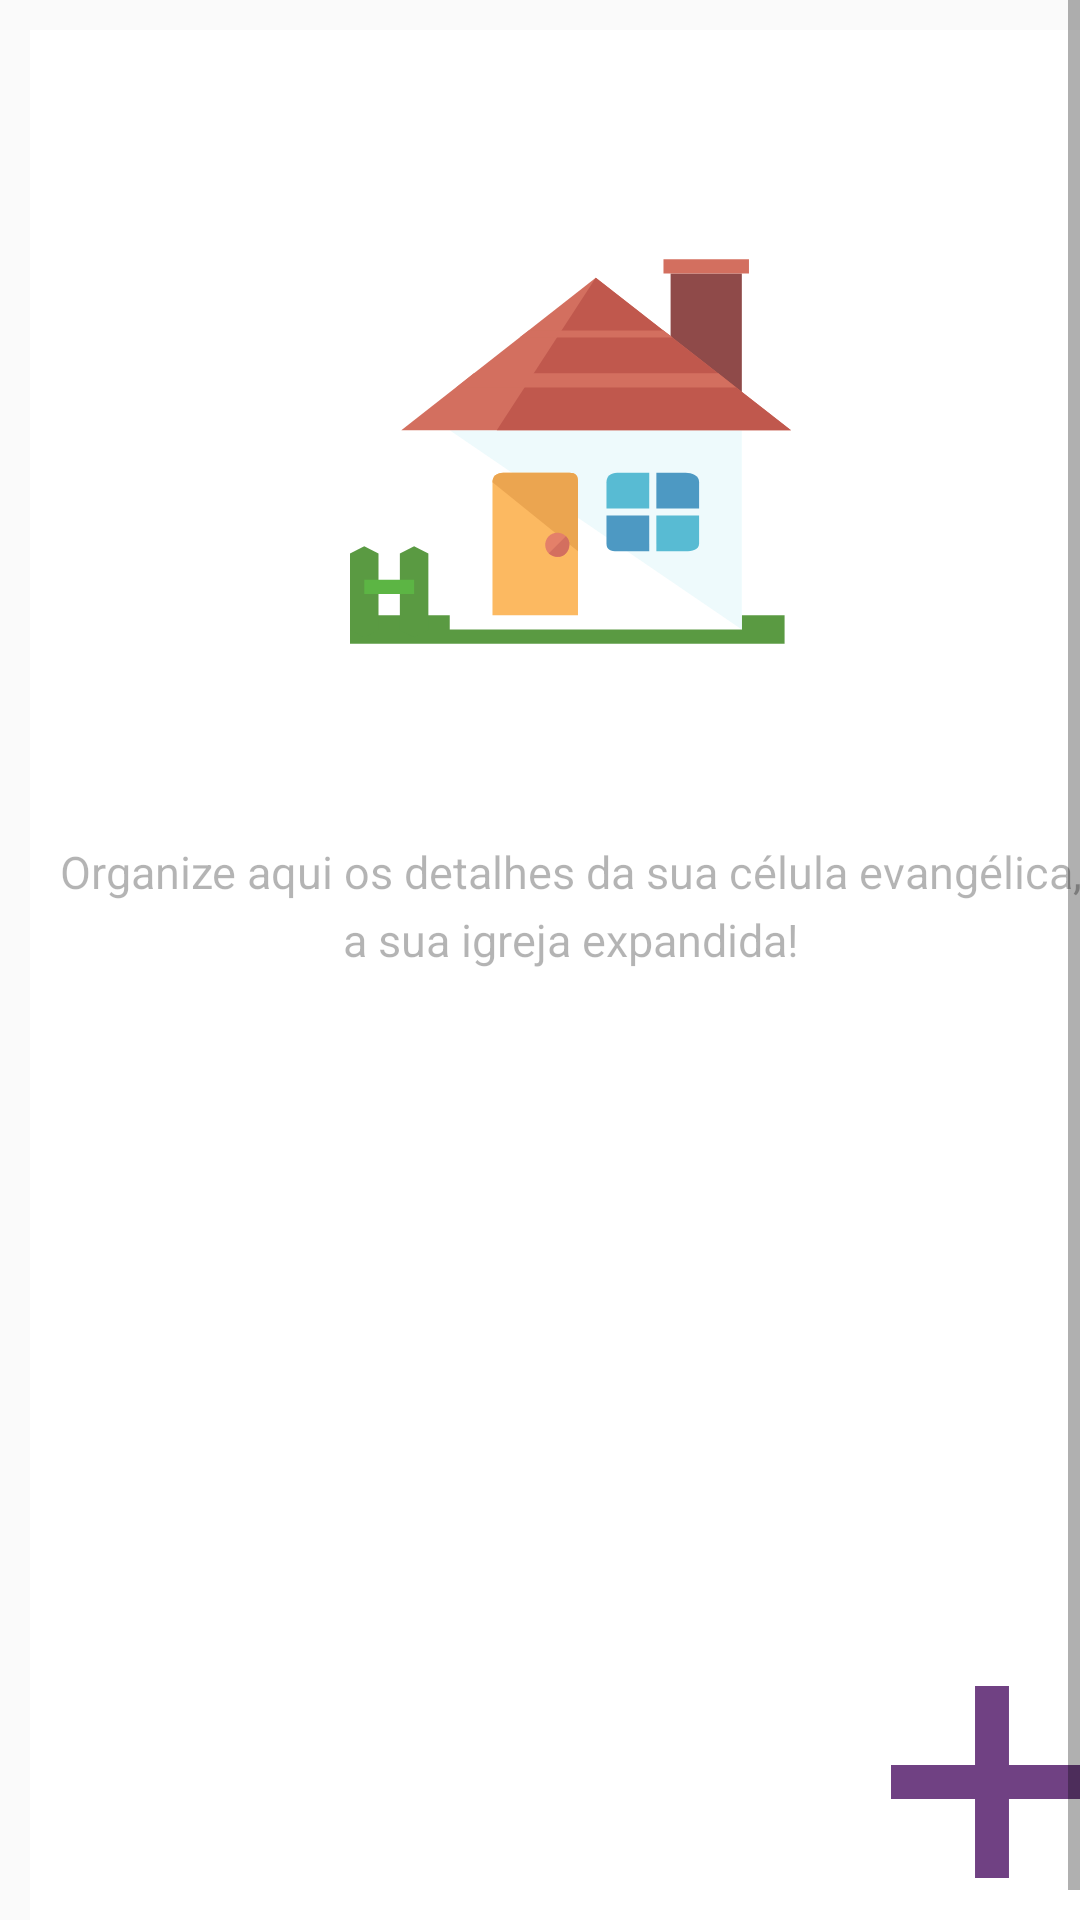

Icon bounding boxes for this 1080px x 1920px phone screenshot, format bbox=[x1, y1, x2, y2]:
add: bbox=[891, 1686, 1080, 1878]
